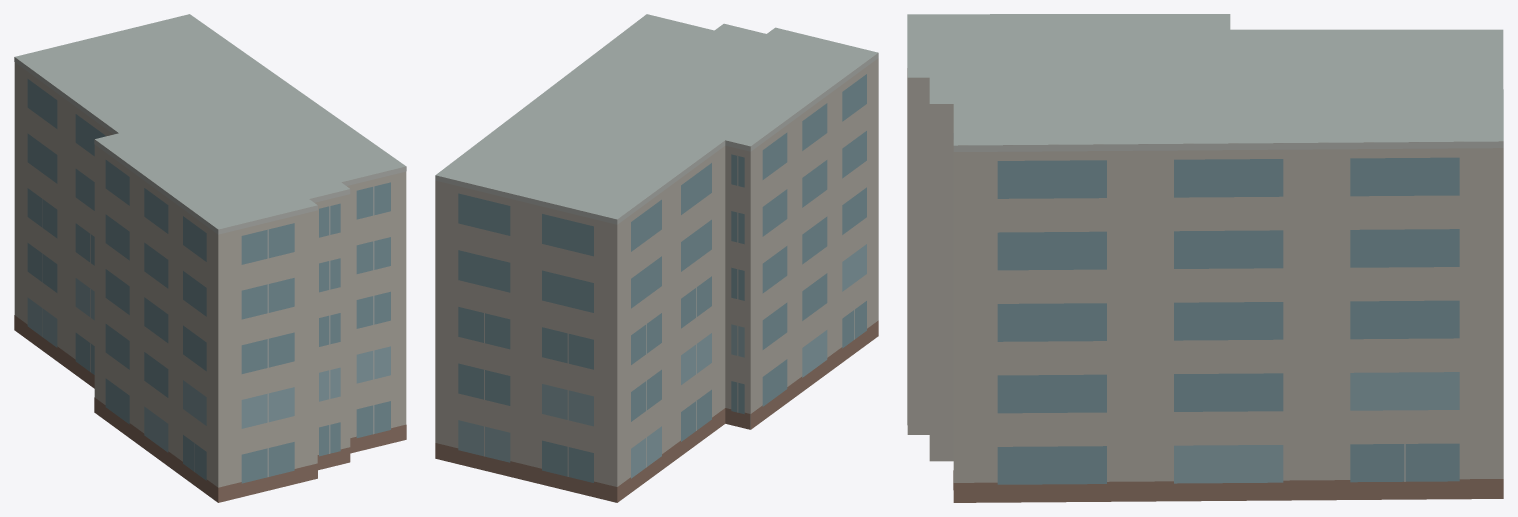
The model's file is survey-upis-32981508.glb.
3 views of the same model, side by side, from view 1: azimuth 30°, elevation 25°; view 2: azimuth 150°, elevation 25°; view 3: azimuth 270°, elevation 25° (orthographic). The views are drawn at different scales.
Visible parts, largest first — view 1: survey-upis-32981508.tmp; view 2: survey-upis-32981508.tmp; view 3: survey-upis-32981508.tmp.
Boxes of the visible parts, x1,y1,x2,y2 form: survey-upis-32981508.tmp: (14, 14, 406, 502); survey-upis-32981508.tmp: (435, 14, 878, 502); survey-upis-32981508.tmp: (907, 14, 1503, 502).
Size of the model in its own units: 10.35 by 13.1 by 19.82.
